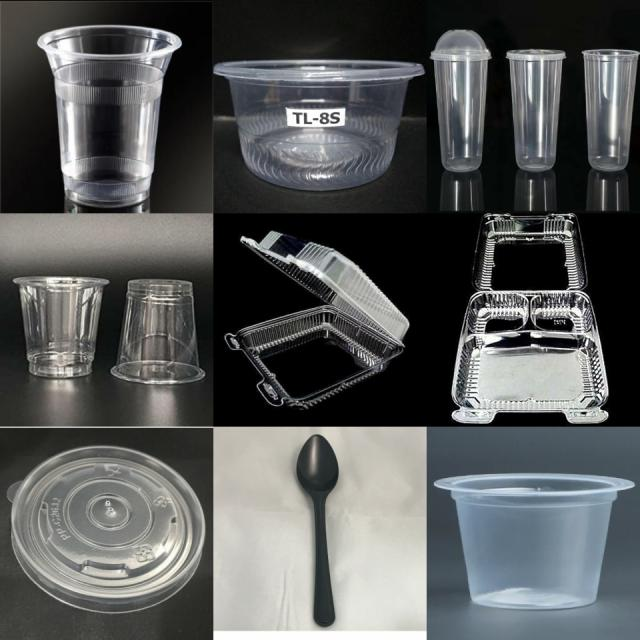Single-Use-Plastic: (452, 214, 609, 424), (8, 446, 205, 612), (225, 231, 409, 408), (214, 60, 424, 191), (435, 474, 635, 609), (38, 25, 181, 208), (111, 279, 205, 383), (14, 276, 109, 378), (431, 30, 491, 172), (296, 435, 339, 626), (506, 50, 565, 172), (582, 50, 639, 171)
